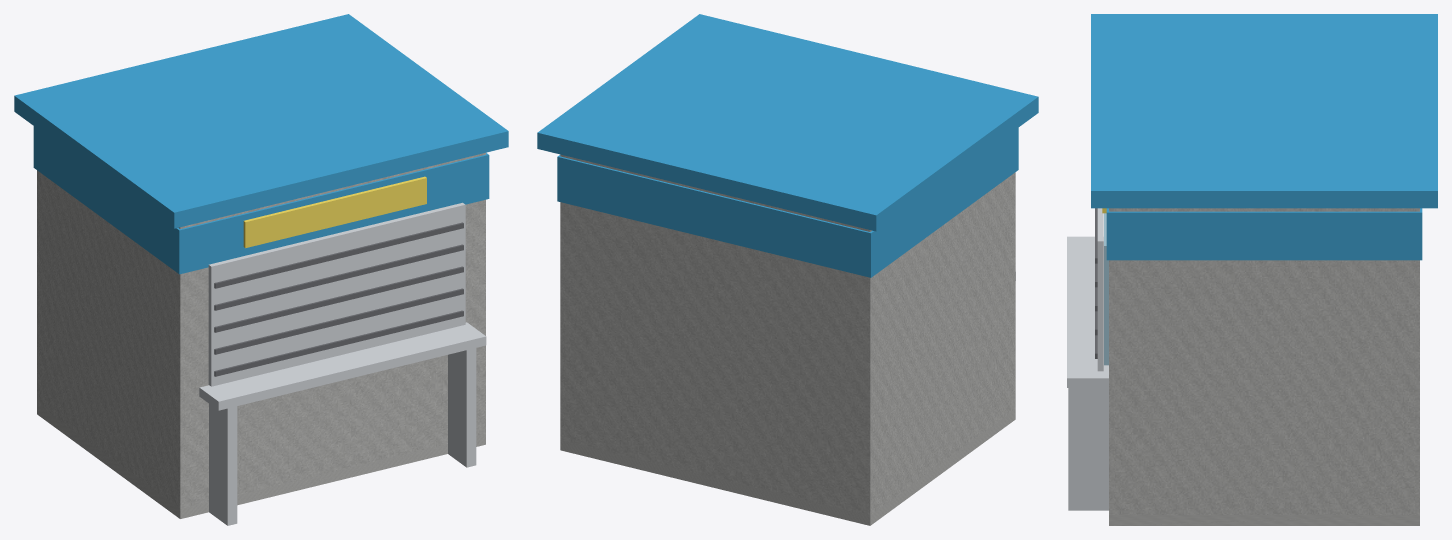
The model's file is bus-station-and-city-transit-ticket-office-kiosk-61214dac.glb.
The picture shows the model from 3 angles, left to right: view 1: azimuth 30°, elevation 25°; view 2: azimuth 150°, elevation 25°; view 3: azimuth 270°, elevation 25°; orthographic projection. The views are drawn at different scales.
Parts seen in each view (by area): view 1: ticket-office-kiosk-azure, ticket-office-kiosk-concrete, shutter/steel, ticket-office-kiosk-steel, shutter/charcoal, ticket-office-kiosk-canary; view 2: ticket-office-kiosk-concrete, ticket-office-kiosk-azure; view 3: ticket-office-kiosk-concrete, ticket-office-kiosk-azure, ticket-office-kiosk-steel, shutter/steel, ticket-office-kiosk-glass, shutter/charcoal.
Boxes of the visible parts, x1,y1,x2,y2 form: ticket-office-kiosk-azure: (14, 14, 508, 274); ticket-office-kiosk-concrete: (37, 152, 485, 518); shutter/steel: (208, 202, 465, 386); ticket-office-kiosk-steel: (199, 322, 486, 525); shutter/charcoal: (214, 222, 463, 376); ticket-office-kiosk-canary: (243, 176, 426, 248); ticket-office-kiosk-concrete: (560, 154, 1015, 525); ticket-office-kiosk-azure: (537, 14, 1038, 277); ticket-office-kiosk-concrete: (1109, 208, 1419, 525); ticket-office-kiosk-azure: (1091, 14, 1437, 260); ticket-office-kiosk-steel: (1067, 236, 1108, 510); shutter/steel: (1097, 208, 1103, 371); ticket-office-kiosk-glass: (1104, 213, 1108, 365); shutter/charcoal: (1095, 208, 1097, 358).
Bounding box in the file's own units: 3.5 × 3.16 × 3.1.
6 materials, 1 textured.
